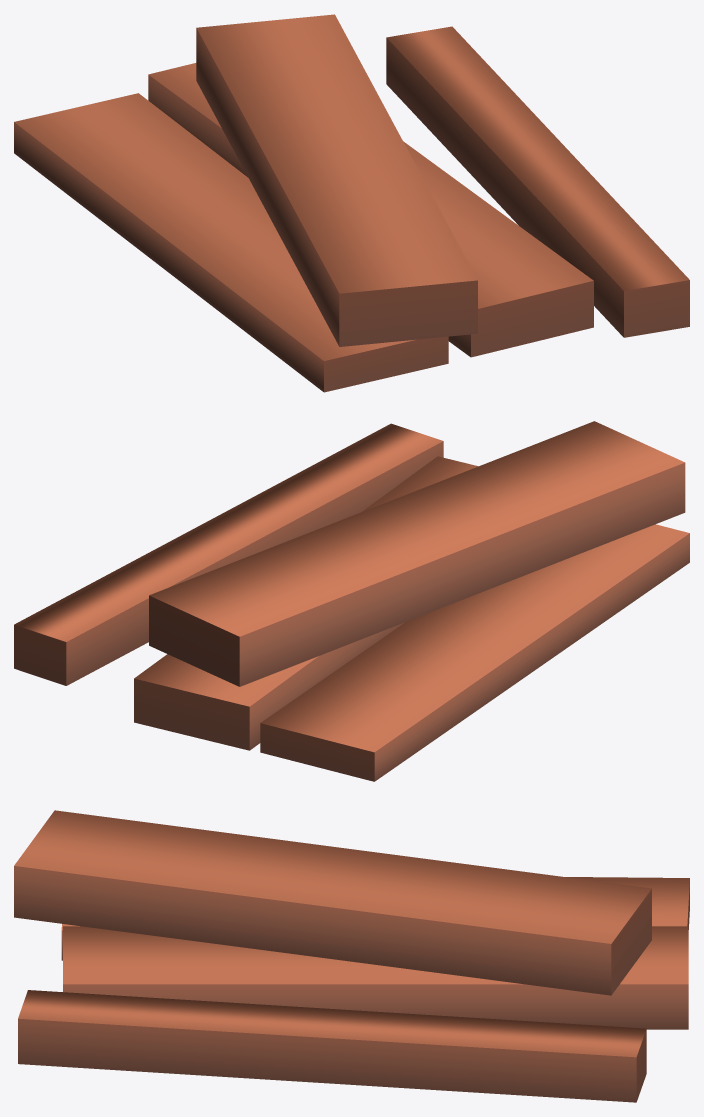
The model's file is platform-planks.glb.
The picture shows the model from 3 angles, top to bottom: view 1: azimuth 30°, elevation 25°; view 2: azimuth 150°, elevation 25°; view 3: azimuth 270°, elevation 25°; orthographic projection. The views are drawn at different scales.
Parts seen in each view (by area): view 1: platform-planks; view 2: platform-planks; view 3: platform-planks.
Boxes of the visible parts, left/top/right/bottom form: platform-planks: left=14, top=14, right=689, bottom=392; platform-planks: left=14, top=421, right=689, bottom=781; platform-planks: left=14, top=810, right=689, bottom=1102.
Bounding box in the file's own units: 1.89 × 0.4279 × 2.7.
1 material, 1 textured.
